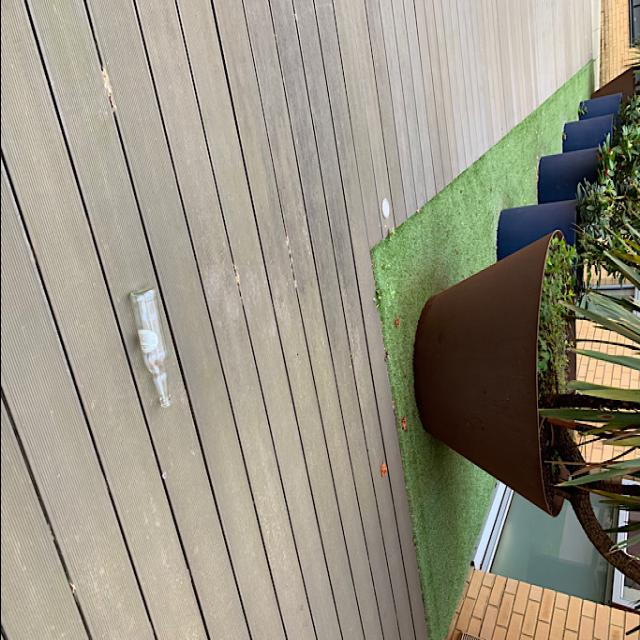Glass Bottle: (122, 278, 172, 412)
